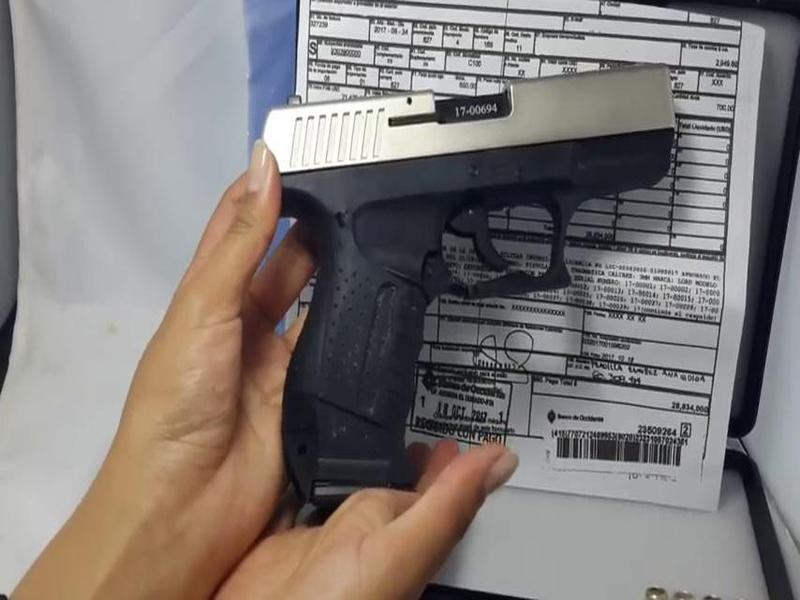Pistola: (250, 62, 696, 515)
